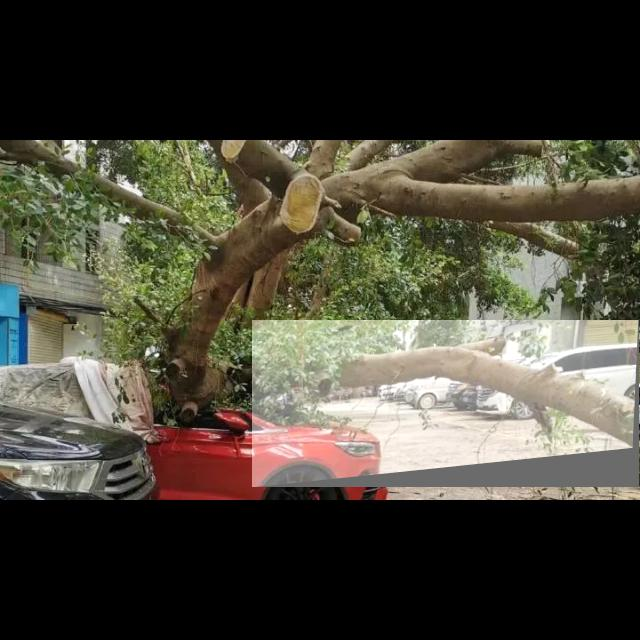Fallen Tree: (252, 320, 640, 488)
